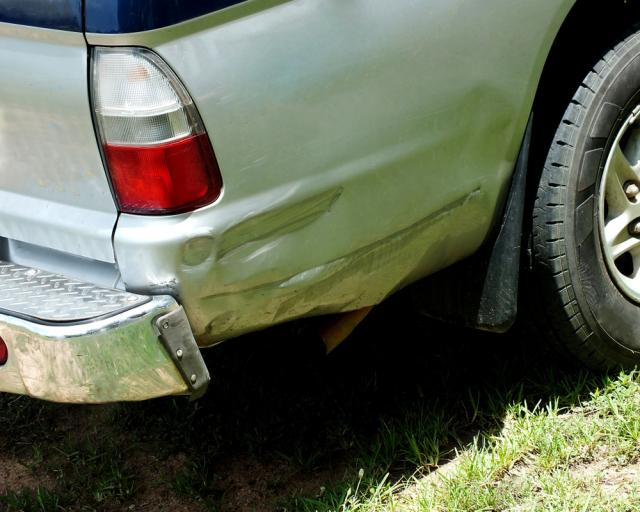dent: (173, 180, 345, 337), (455, 82, 519, 194)
